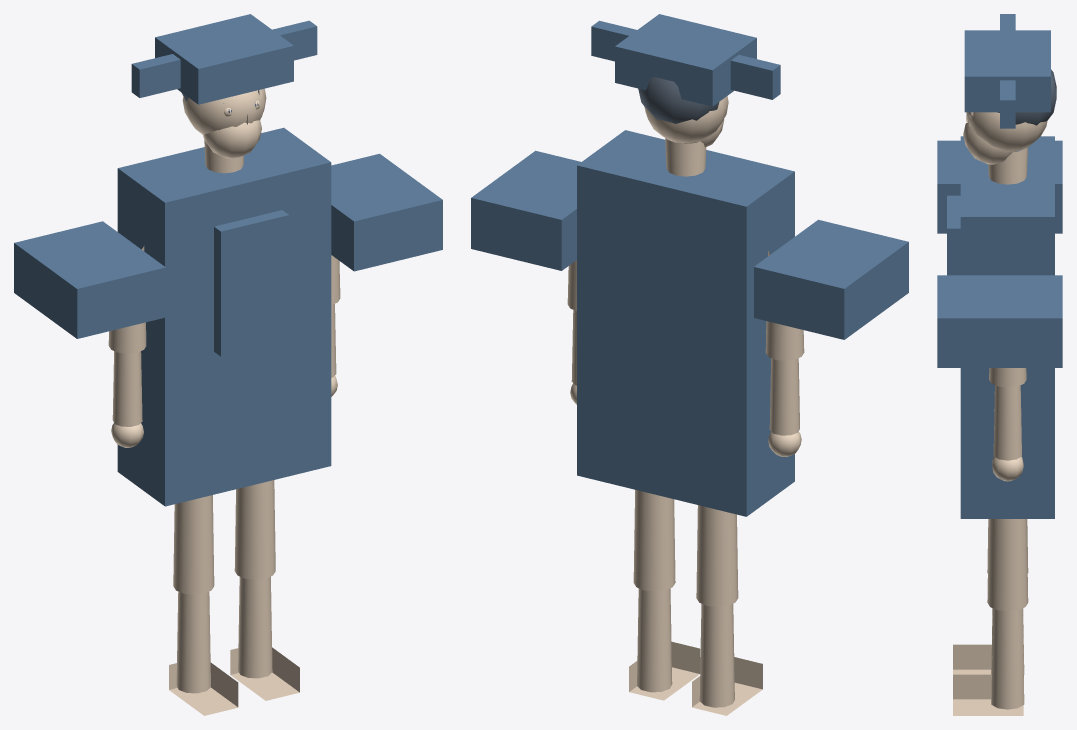
File: body.glb
3 renders of one model, left to right at view 1: azimuth 30°, elevation 25°; view 2: azimuth 150°, elevation 25°; view 3: azimuth 270°, elevation 25°, orthographic. The views are drawn at different scales.
Visible parts, largest first — view 1: Cloth, Skin; view 2: Cloth, Skin, Hair; view 3: Cloth, Skin, Hair.
Part boxes in pixels (left/top/right/bottom): Cloth: left=14, top=14, right=442, bottom=506; Skin: left=108, top=88, right=340, bottom=715; Cloth: left=471, top=14, right=908, bottom=516; Skin: left=567, top=96, right=804, bottom=715; Hair: left=638, top=77, right=719, bottom=123; Cloth: left=937, top=14, right=1062, bottom=518; Skin: left=953, top=112, right=1047, bottom=715; Hair: left=997, top=69, right=1056, bottom=125.
Bounding box in the file's own units: 1.07 × 1.8 × 0.32.
